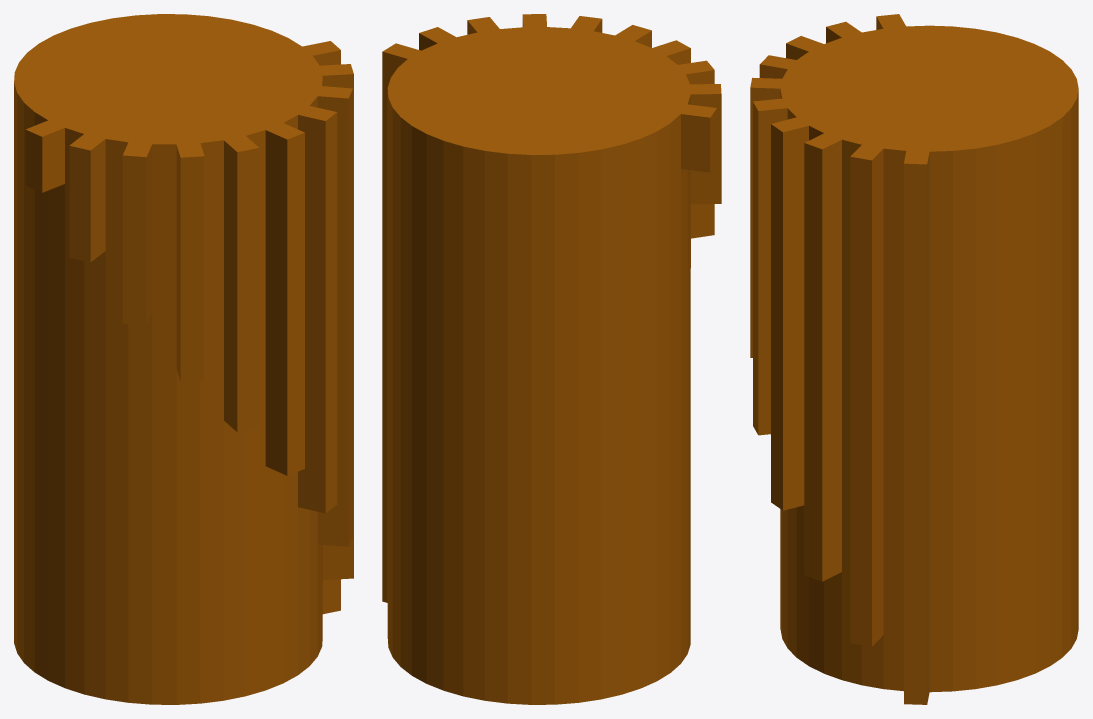
The model's file is engrenage.dae.
3 views of the same model, side by side, from view 1: azimuth 30°, elevation 25°; view 2: azimuth 150°, elevation 25°; view 3: azimuth 270°, elevation 25° (orthographic). The views are drawn at different scales.
Visible parts, largest first — view 1: Cylinder_003; view 2: Cylinder_003; view 3: Cylinder_003.
Part boxes in pixels (x1,y1,x2,y2): Cylinder_003: (14,14,353,704); Cylinder_003: (382,14,721,704); Cylinder_003: (750,14,1078,704).
Size of the model in its own units: 1.19 by 1.1 by 2.
